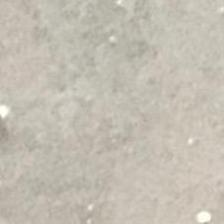Non_Crack: (16, 36, 224, 216)
